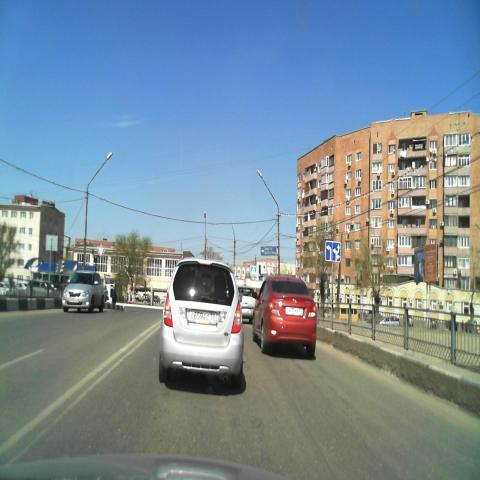2_4: (97, 246, 104, 257)
5_15_2_2: (325, 240, 341, 262)
5_19_1: (250, 266, 257, 278)
